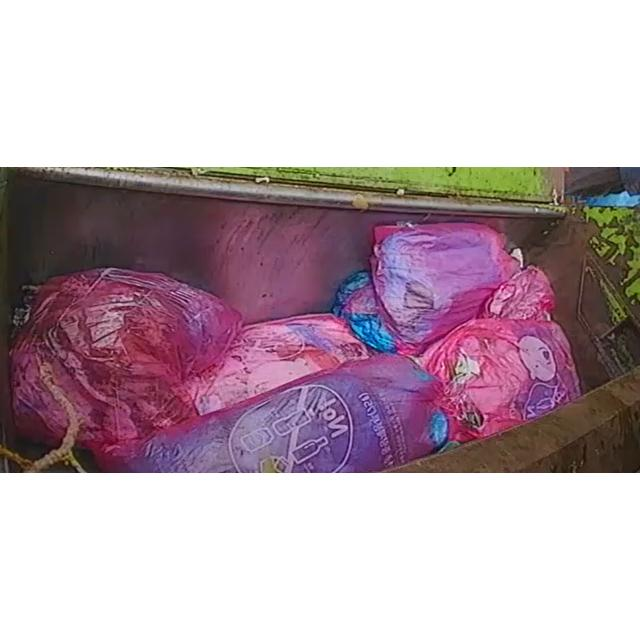other_trashbag: (11, 268, 241, 460), (105, 357, 449, 473), (332, 223, 520, 355), (419, 318, 580, 441), (192, 314, 370, 415)
